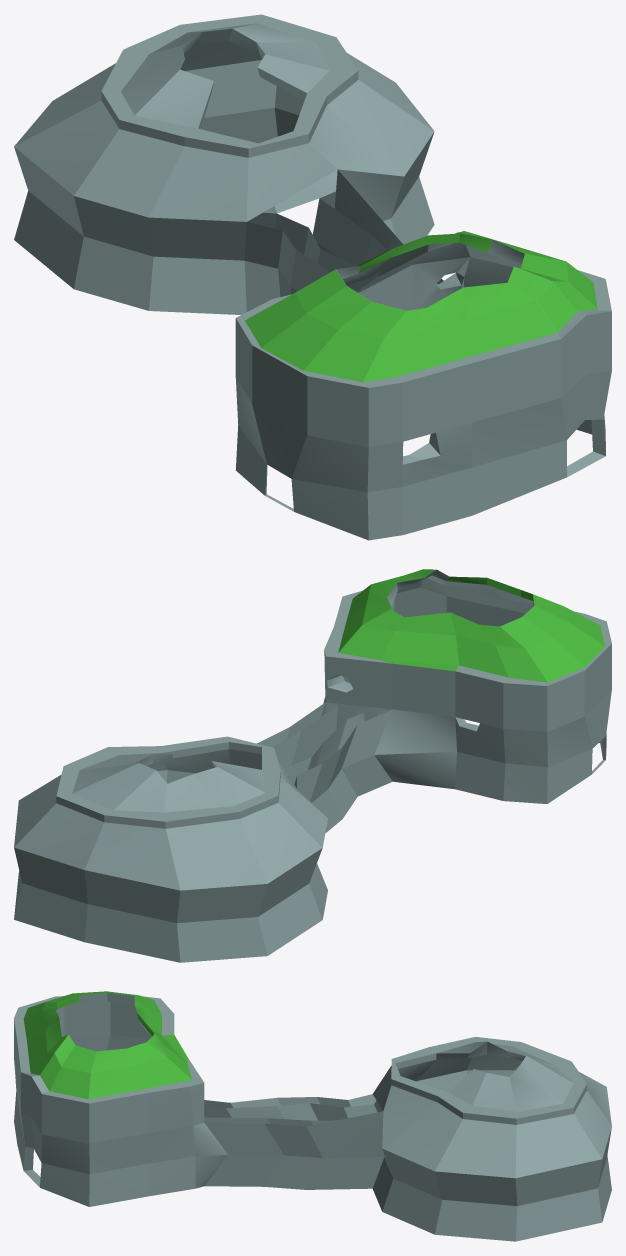
The model's file is PolyShape (2).fbx.
3 renders of one model, top to bottom at view 1: azimuth 30°, elevation 25°; view 2: azimuth 150°, elevation 25°; view 3: azimuth 270°, elevation 25°, orthographic. The views are drawn at different scales.
Visible parts, largest first — view 1: PolyShape__2_; view 2: PolyShape__2_; view 3: PolyShape__2_.
Boxes of the visible parts, <box> form: PolyShape__2_: <box>14,14,611,540</box>; PolyShape__2_: <box>14,569,611,962</box>; PolyShape__2_: <box>14,991,611,1241</box>.
Bounding box in the file's own units: 24858 × 10984 × 43362.
